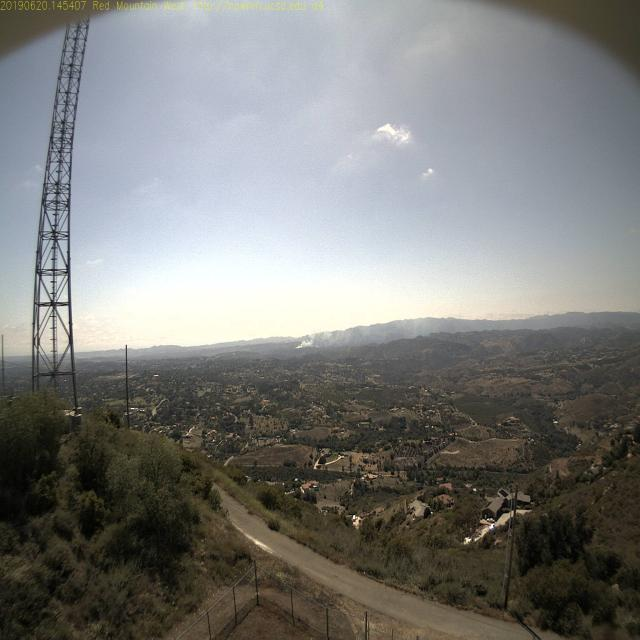smoke: (294, 332, 321, 356), (282, 332, 292, 348)
